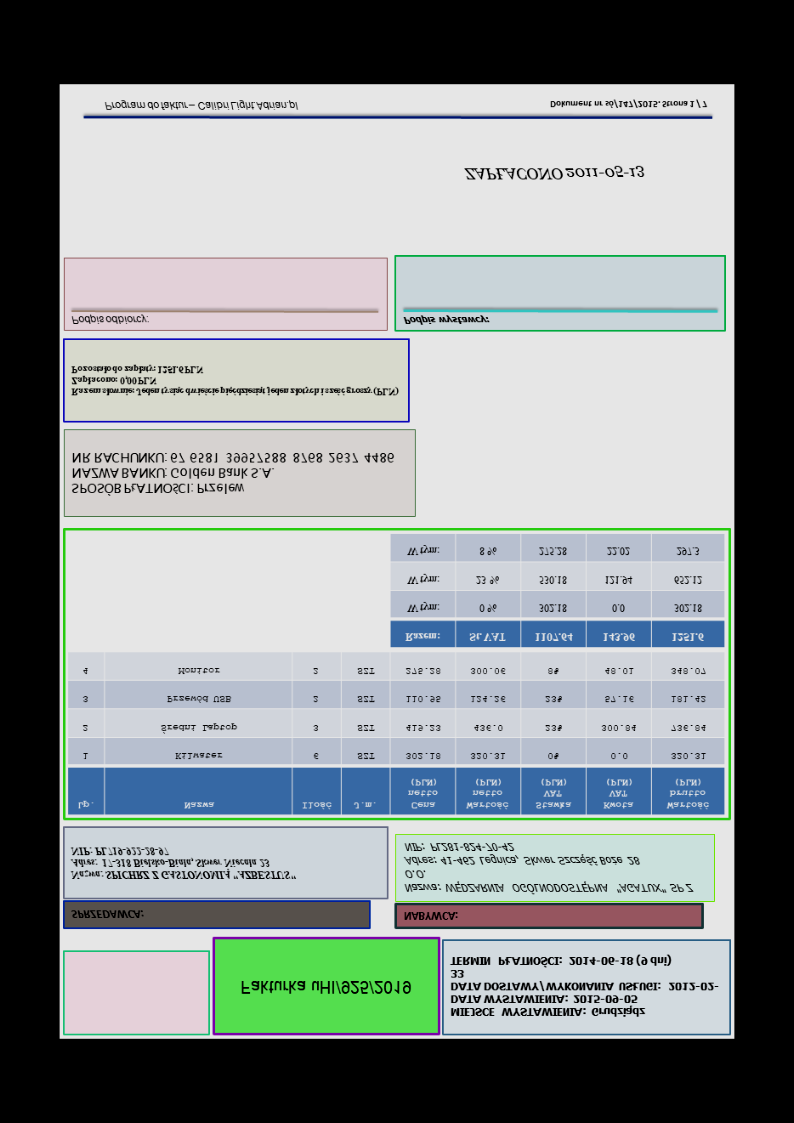Table: (66, 650, 725, 817), (389, 531, 726, 649)
TextBox: (448, 953, 722, 1020), (401, 839, 696, 896), (69, 448, 396, 497), (69, 364, 400, 400), (69, 844, 298, 883), (462, 162, 645, 185), (103, 97, 300, 115), (238, 977, 414, 997), (548, 97, 708, 111), (401, 311, 490, 329), (69, 312, 150, 328), (68, 907, 146, 923), (401, 908, 459, 924)
